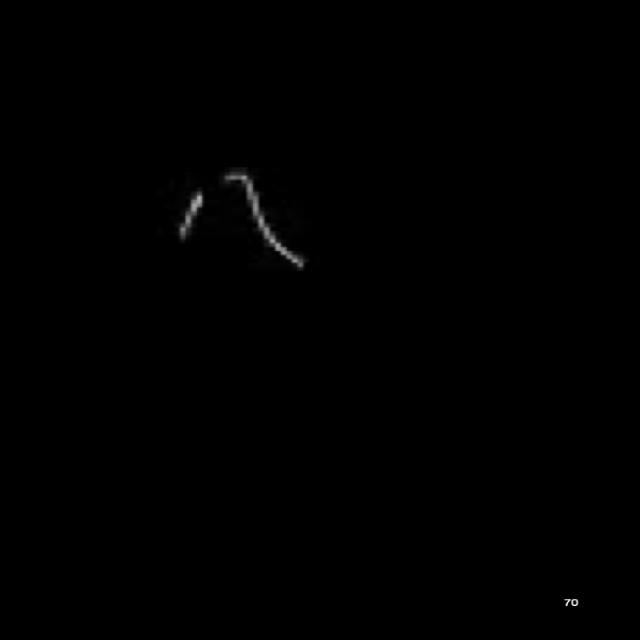8 -eight-: (156, 158, 319, 276)
